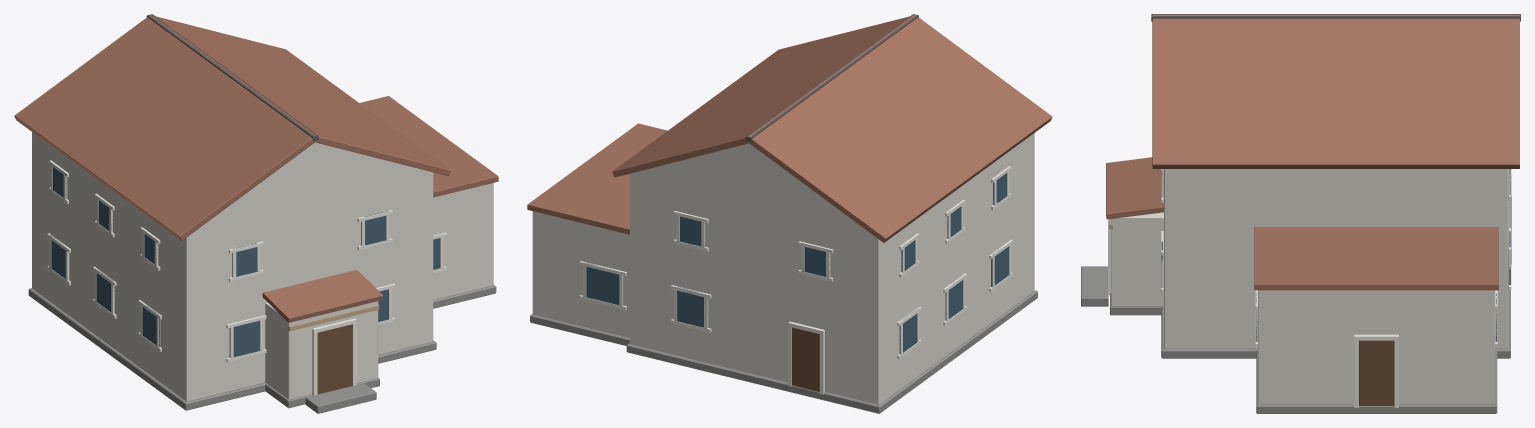
Rendered from ParishOffice.glb.
The picture shows the model from 3 angles, left to right: view 1: azimuth 30°, elevation 25°; view 2: azimuth 150°, elevation 25°; view 3: azimuth 270°, elevation 25°; orthographic projection. The views are drawn at different scales.
Parts seen in each view (by area): view 1: FTF_ParishOffice_NorthAmerican_Static; view 2: FTF_ParishOffice_NorthAmerican_Static; view 3: FTF_ParishOffice_NorthAmerican_Static.
Boxes of the visible parts, x1,y1,x2,y2 form: FTF_ParishOffice_NorthAmerican_Static: (14,14,498,413); FTF_ParishOffice_NorthAmerican_Static: (527,14,1052,413); FTF_ParishOffice_NorthAmerican_Static: (1081,14,1520,413).
Size of the model in its own units: 13.9 by 9.01 by 13.04.
